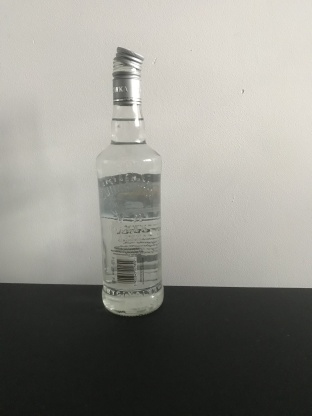nakretka: (110, 44, 145, 105)
